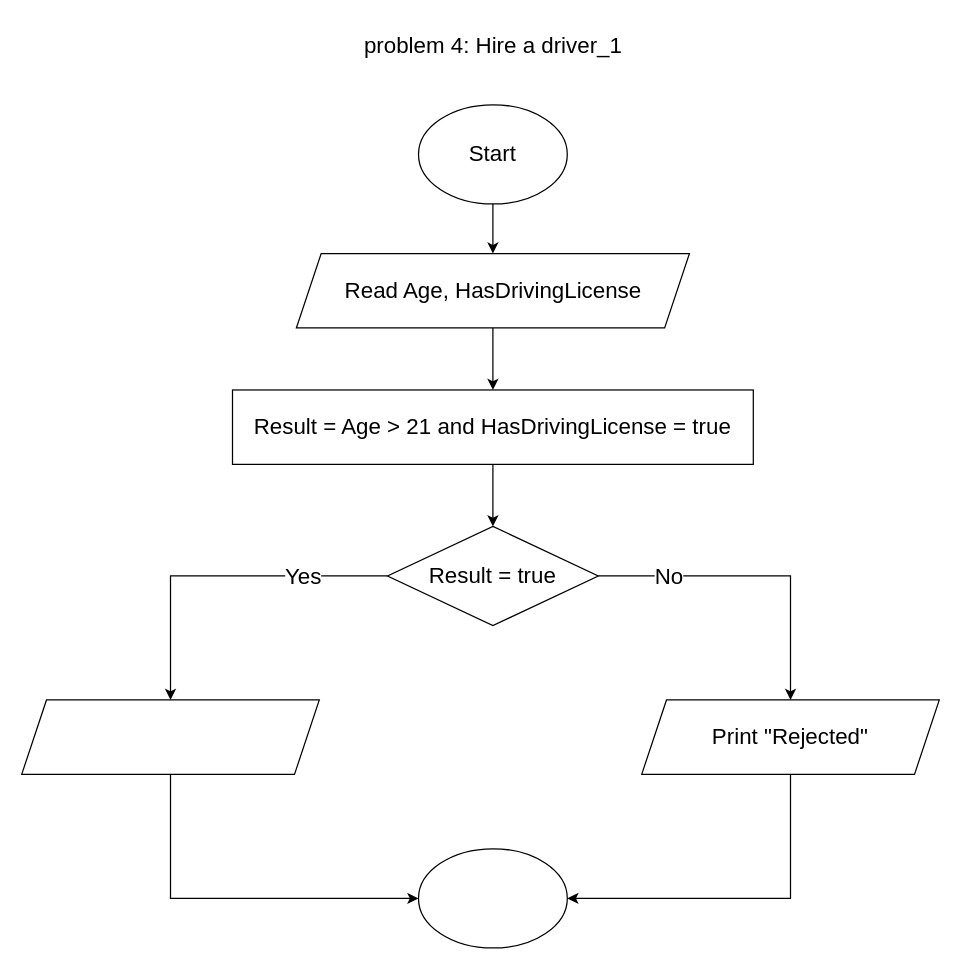
The diagram is 961 pixels wide and 970 high, and some of its shapes have lost their labels. Each missing label, with the centre of its shape:
End: the point at 492,898
Print "Hired": the point at 169,736
